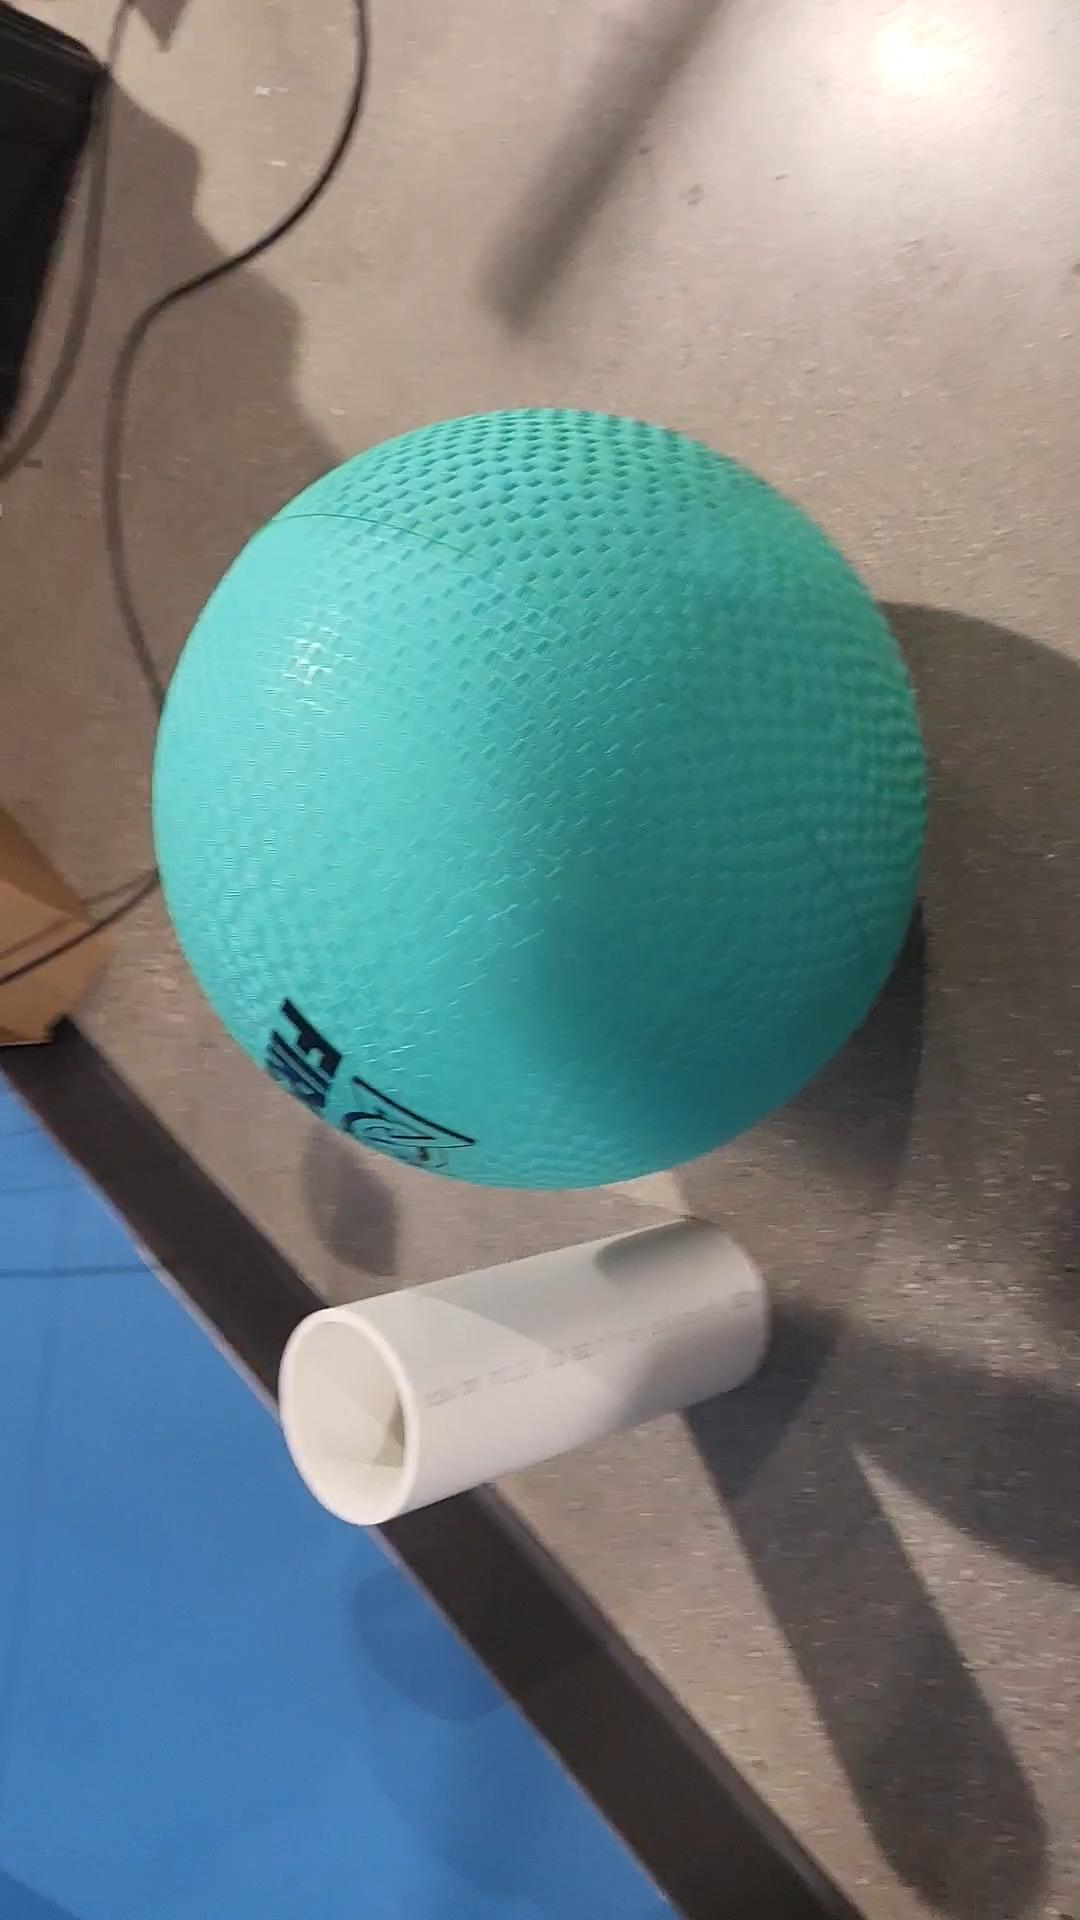algae: (157, 410, 924, 1197)
coral: (276, 1217, 767, 1523)
